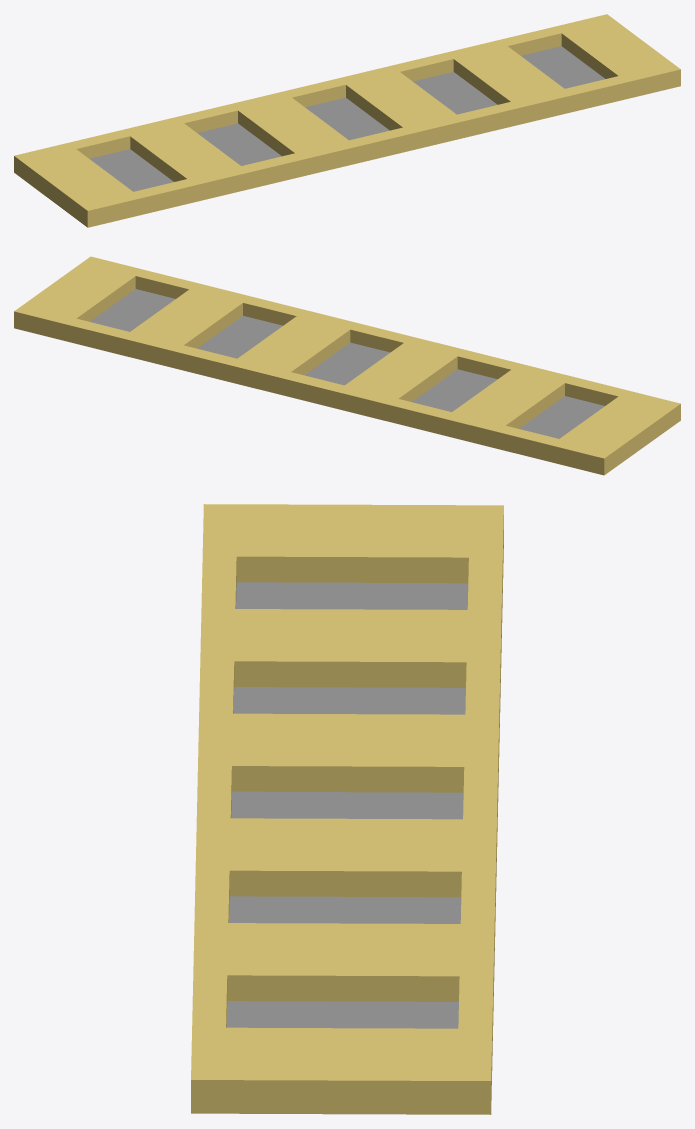
File: gutter.fbx
The picture shows the model from 3 angles, top to bottom: view 1: azimuth 30°, elevation 25°; view 2: azimuth 150°, elevation 25°; view 3: azimuth 270°, elevation 25°; orthographic projection. The views are drawn at different scales.
Visible parts, largest first — view 1: gutter; view 2: gutter; view 3: gutter.
Part boxes in pixels (bbox=[...]): gutter: bbox=[14, 14, 680, 227]; gutter: bbox=[14, 256, 680, 475]; gutter: bbox=[191, 504, 503, 1114].
Bounding box in the file's own units: 110 × 2.99 × 25.22.
